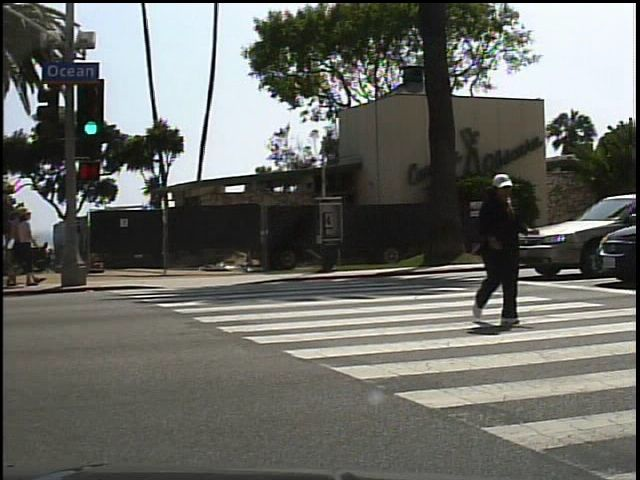person: (459, 163, 537, 337)
